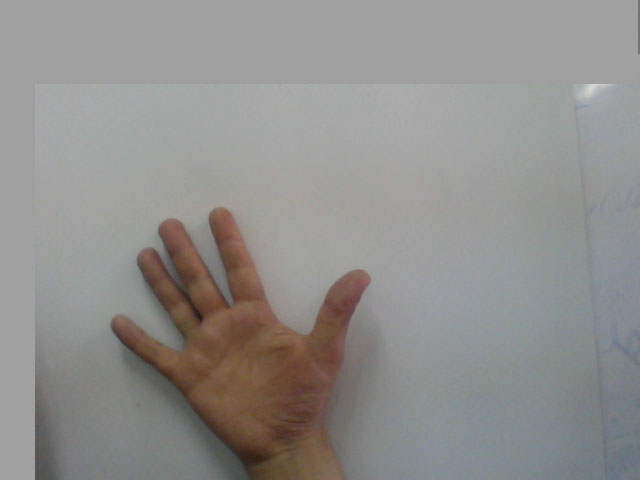hand: (98, 197, 376, 436)
